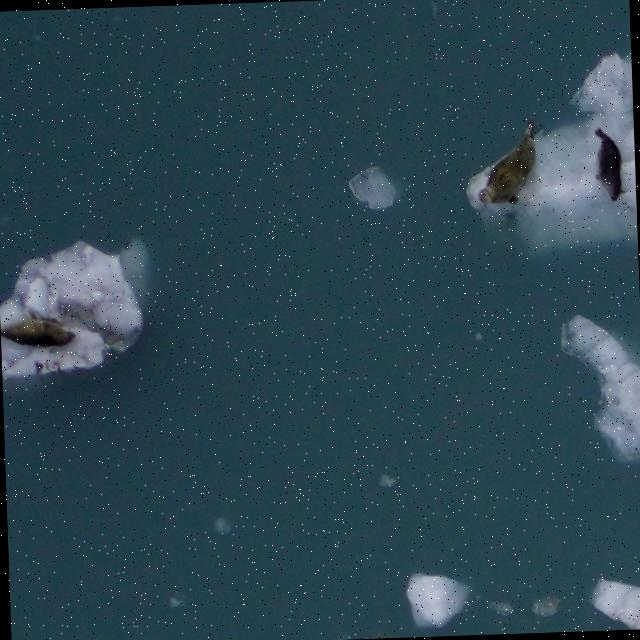seal: (470, 111, 543, 210), (0, 311, 80, 352), (590, 125, 629, 204)
